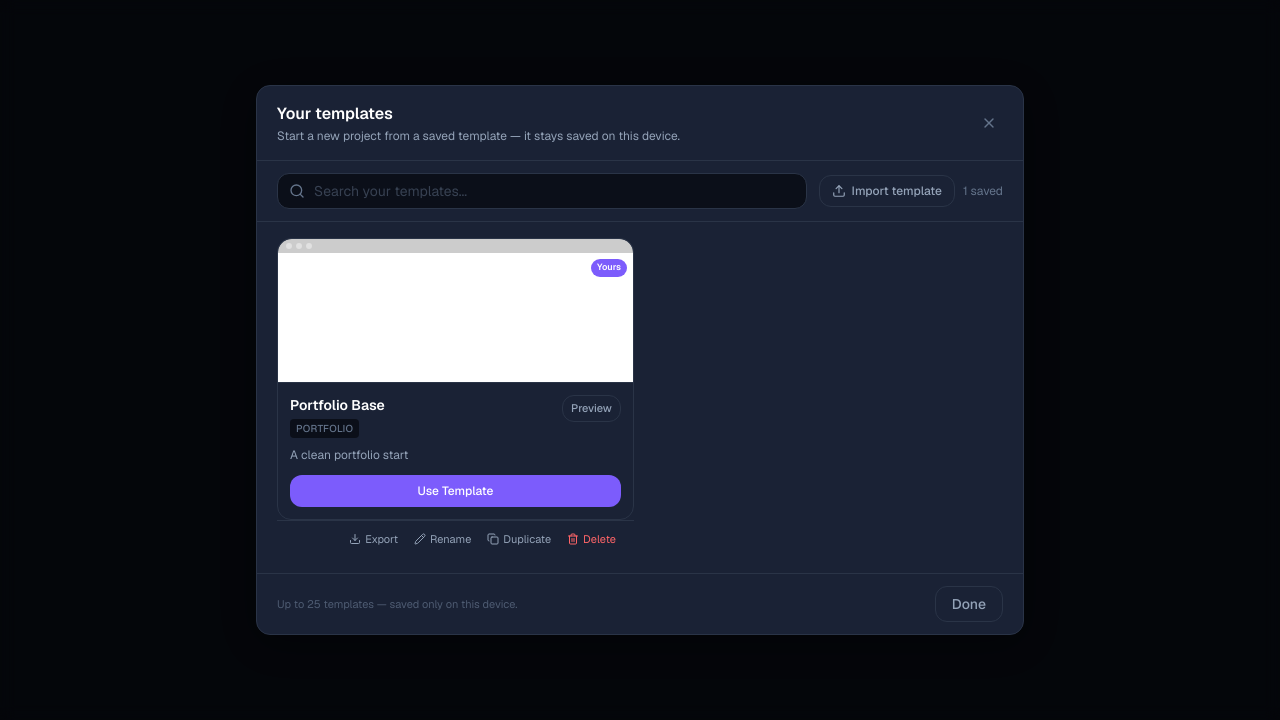
Scenario: PersonalTemplatesPanel › surfaces a use error without closing
Expected: the number of elements with test id "personal-template-card" is 1, 277,238 -> 634,557
What coordinates should you click on to do the following:
click the button with aria-label "Use Portfolio Base"
I would click on:
 (456, 491)
Its box is 290,475 -> 621,507.
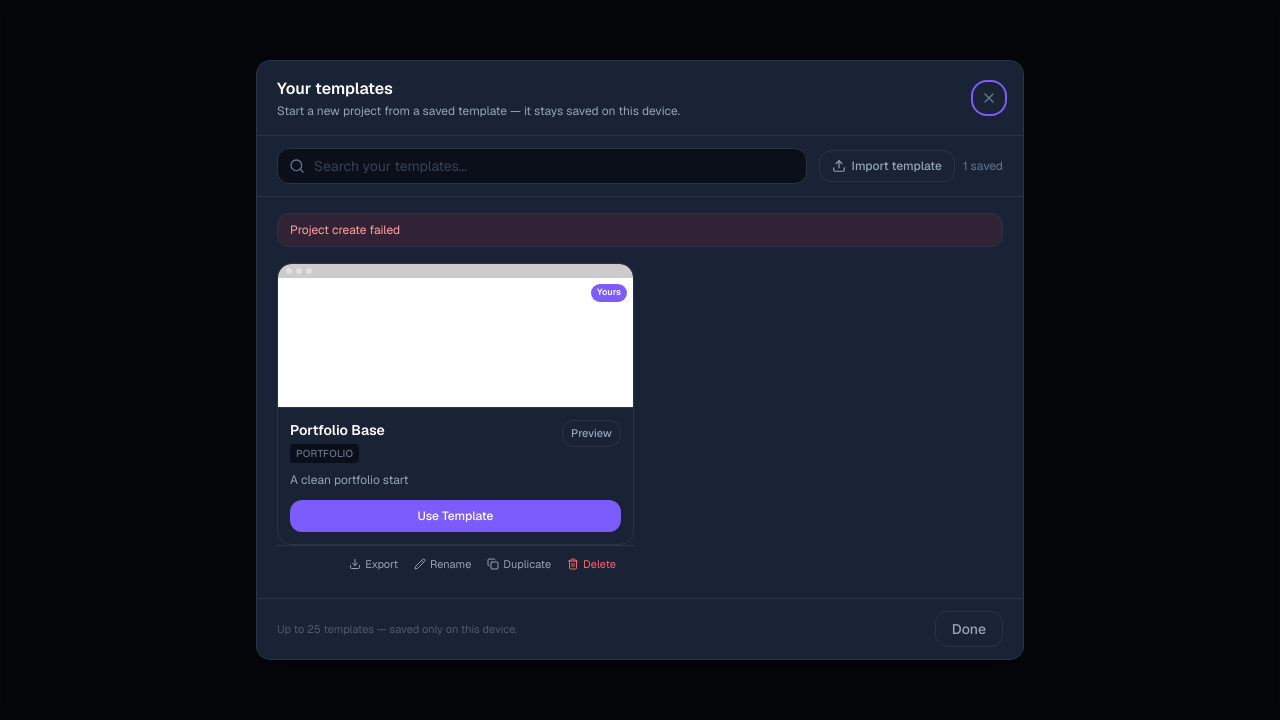
Expected: the number of elements with test id "personal-template-card" is 1, 277,263 -> 634,582
Result: the message with test id "personal-templates-error" reads "Project create failed" at 290,222 -> 400,238
